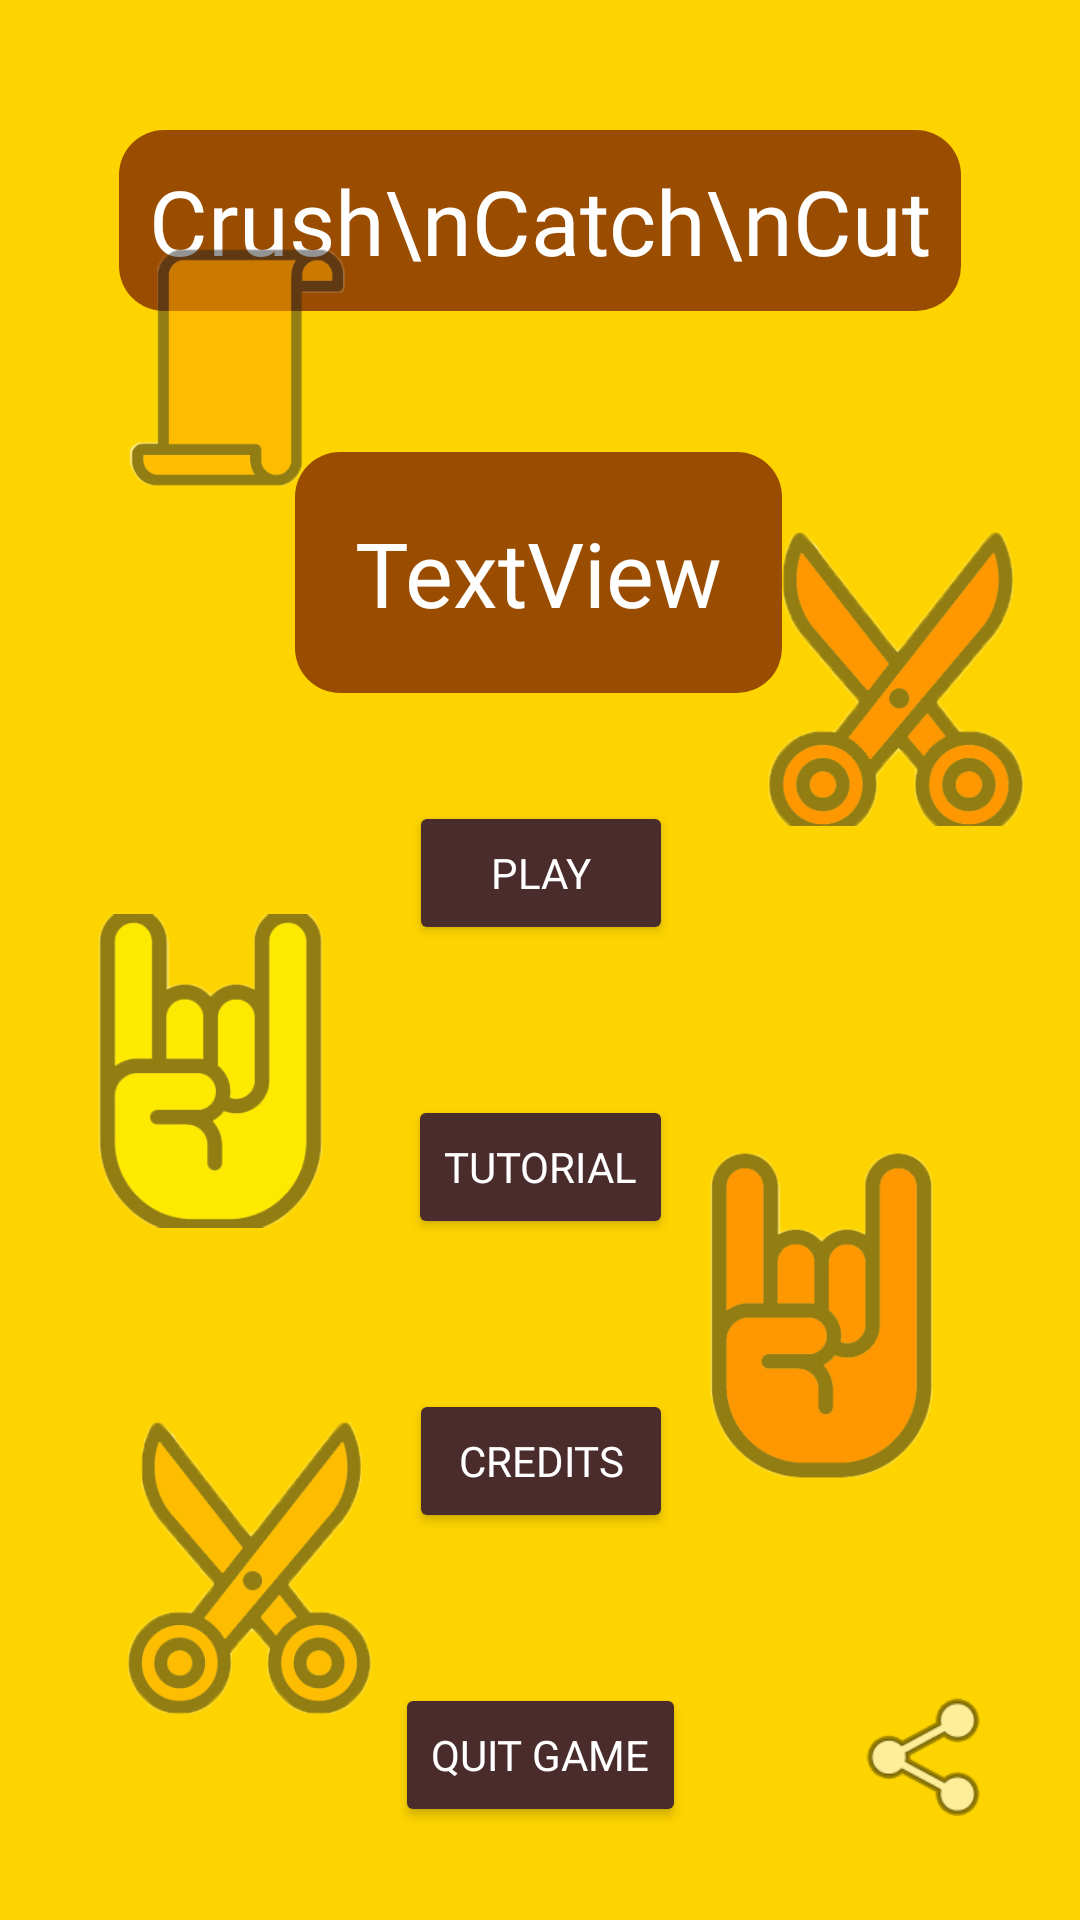

Icons on this 1080x1920 Android screen, each with the point to tap as point (x, y):
share: point (923, 1757)
